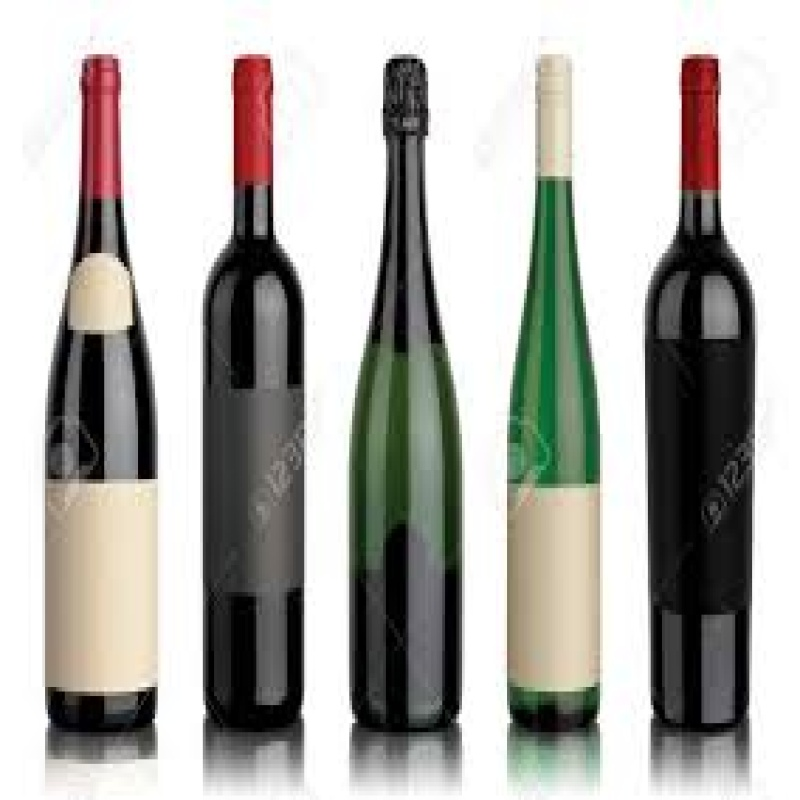wine: (344, 57, 475, 732), (633, 52, 759, 728), (45, 50, 161, 736), (198, 58, 308, 724), (511, 54, 602, 724)
